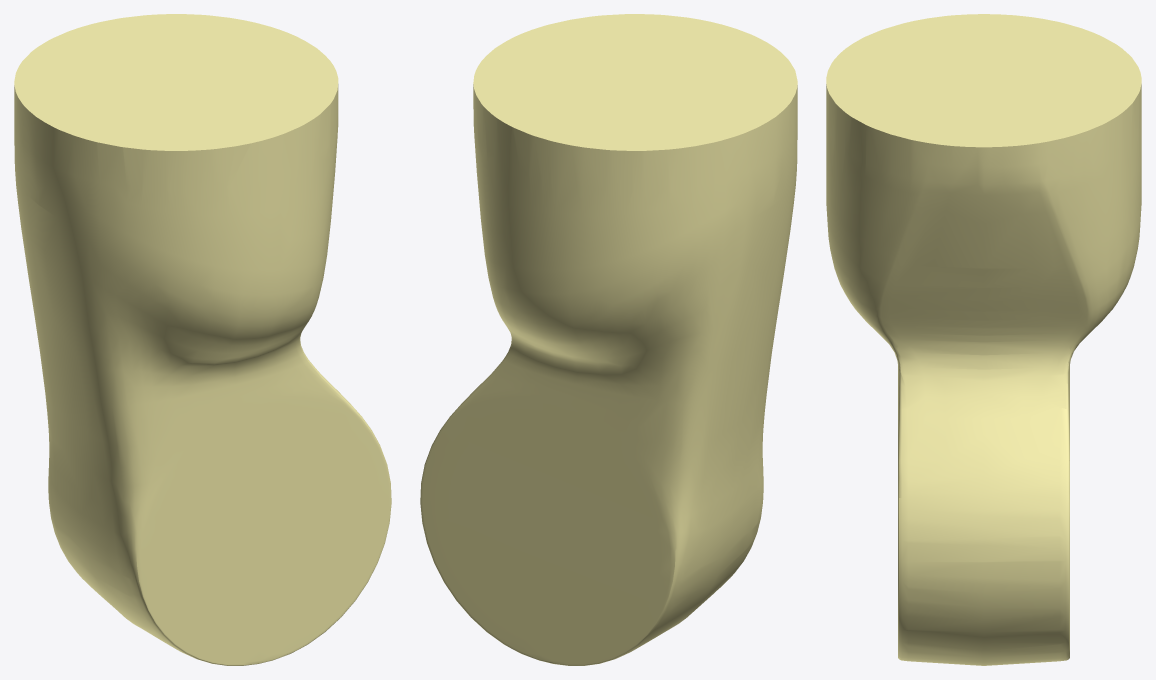
The model's file is elbow_yaw_l_j4_link.glb.
3 renders of one model, left to right at view 1: azimuth 30°, elevation 25°; view 2: azimuth 150°, elevation 25°; view 3: azimuth 270°, elevation 25°, orthographic. The views are drawn at different scales.
Visible parts, largest first — view 1: Mesh_0.008; view 2: Mesh_0.008; view 3: Mesh_0.008.
Boxes of the visible parts, <box> form: Mesh_0.008: <box>14,14,391,665</box>; Mesh_0.008: <box>420,14,797,665</box>; Mesh_0.008: <box>826,14,1141,665</box>.
Size of the model in its own units: 0.1081 by 0.1835 by 0.0955.
